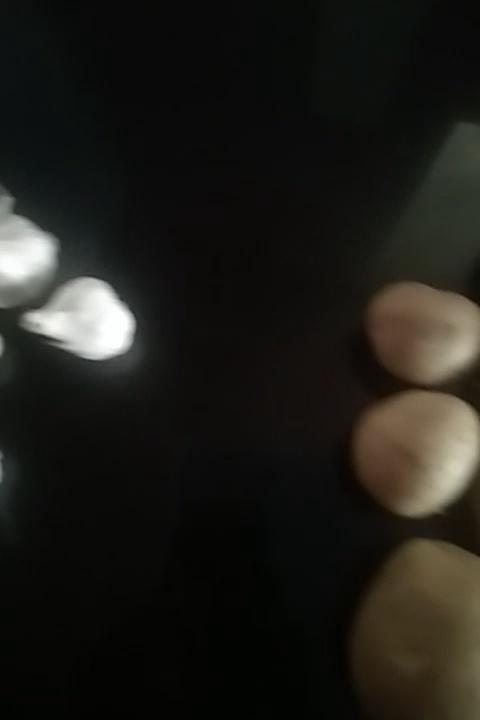garlic: (18, 275, 140, 364), (1, 196, 58, 302)
potato: (343, 529, 480, 717), (358, 386, 480, 512), (362, 281, 480, 380)
